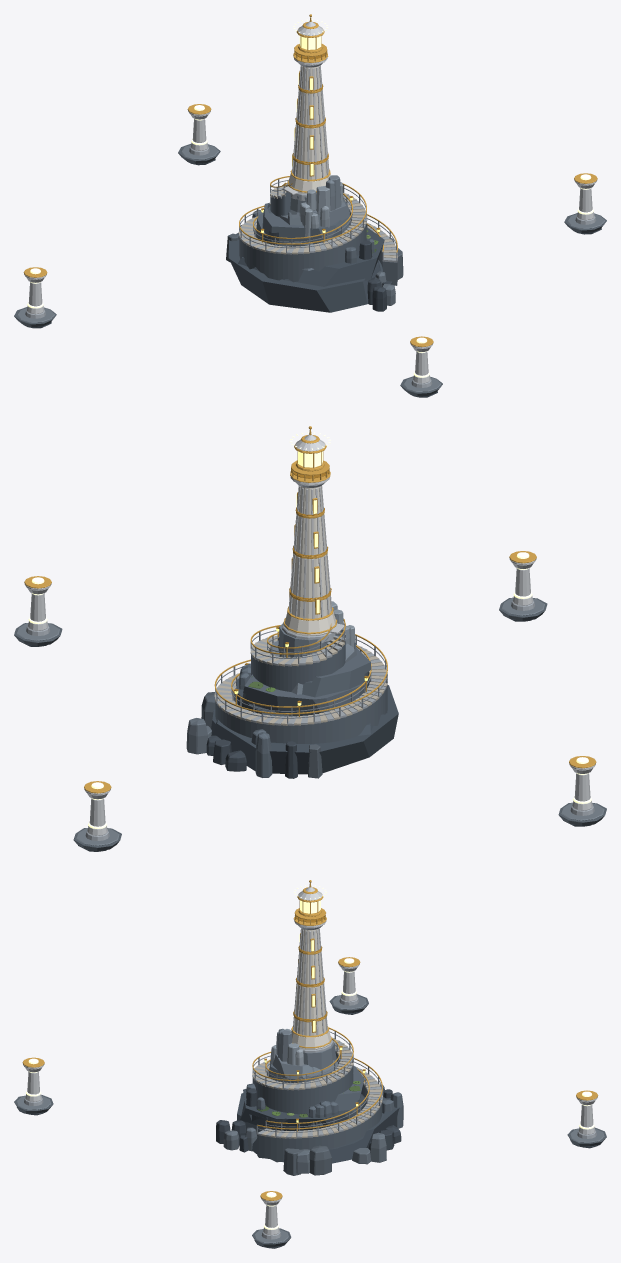
Rendered from beacon_web_draco.glb.
The picture shows the model from 3 angles, top to bottom: view 1: azimuth 30°, elevation 25°; view 2: azimuth 150°, elevation 25°; view 3: azimuth 270°, elevation 25°; orthographic projection. The views are drawn at different scales.
Visible parts, largest first — view 1: Beacon_Static, Totem_LinkedIn_Body, Totem_Resume_Body, Totem_Email_Body, Totem_GitHub_Body, Head_Housing; view 2: Beacon_Static, Totem_Email_Body, Totem_LinkedIn_Body, Totem_Resume_Body, Totem_GitHub_Body, Head_Housing; view 3: Beacon_Static, Totem_Resume_Body, Totem_LinkedIn_Body, Totem_GitHub_Body, Totem_Email_Body.
Boxes of the visible parts, x1,y1,x2,y2 form: Beacon_Static: (226, 44, 403, 312); Totem_LinkedIn_Body: (14, 267, 56, 328); Totem_Resume_Body: (564, 173, 606, 234); Totem_Email_Body: (400, 336, 442, 397); Totem_GitHub_Body: (178, 104, 220, 165); Head_Housing: (296, 14, 324, 53); Beacon_Static: (186, 460, 398, 778); Totem_Email_Body: (499, 551, 547, 621); Totem_LinkedIn_Body: (558, 756, 606, 826); Totem_Resume_Body: (14, 576, 62, 646); Totem_GitHub_Body: (73, 781, 121, 851); Head_Housing: (294, 426, 326, 471); Beacon_Static: (216, 908, 403, 1175); Totem_Resume_Body: (252, 1191, 291, 1248); Totem_LinkedIn_Body: (329, 957, 368, 1014); Totem_GitHub_Body: (567, 1090, 606, 1148); Totem_Email_Body: (14, 1057, 53, 1115).
Size of the model in its own units: 54.99 by 26.45 by 55.18.
Materials: 5 (1 with a texture image).
